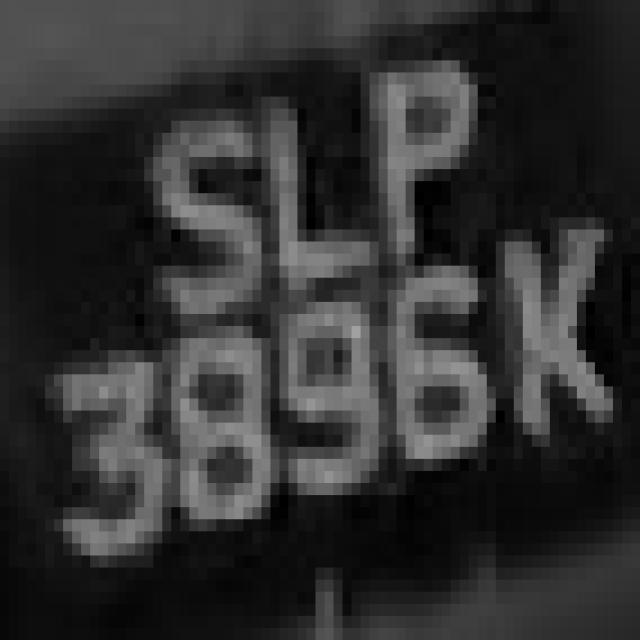3: (36, 302, 162, 580)
6: (370, 242, 496, 495)
8: (154, 266, 288, 592)
9: (253, 253, 397, 568)
K: (487, 193, 613, 495)
L: (234, 36, 370, 314)
P: (360, 0, 496, 290)
S: (136, 72, 270, 326)
